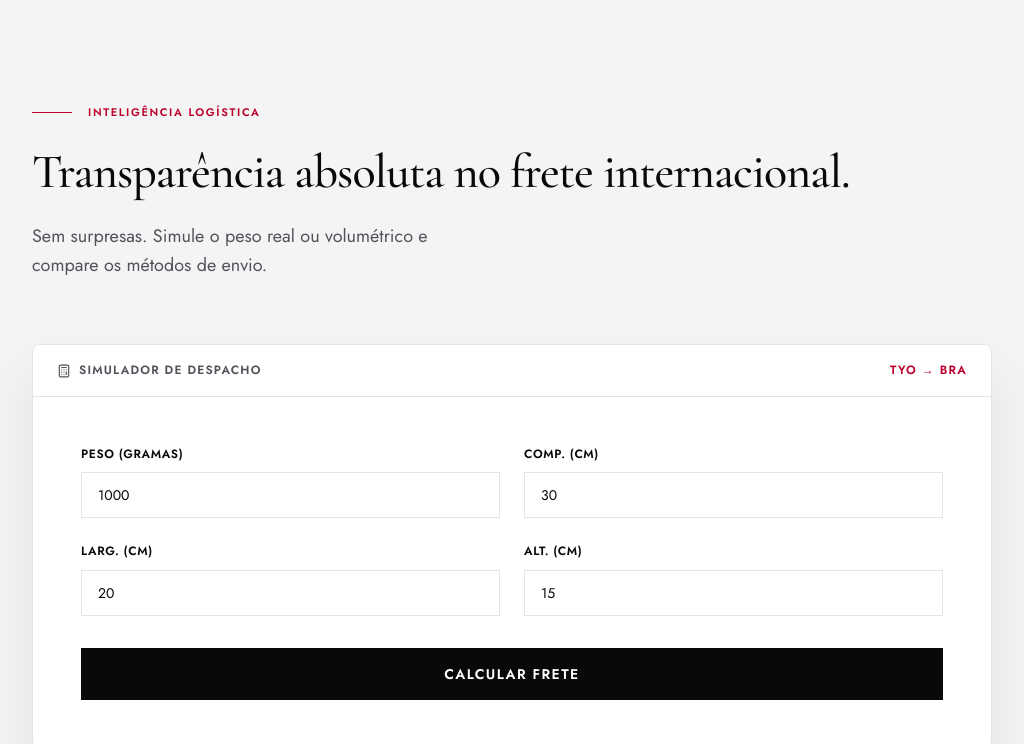
Scenario: FreightCalculator Component › mostra erro quando inputs são <= 0
Replace the text in the number field labelled "Peso (gramas)" with "500": (290, 495) top-left (81, 472), bottom-right (500, 518)
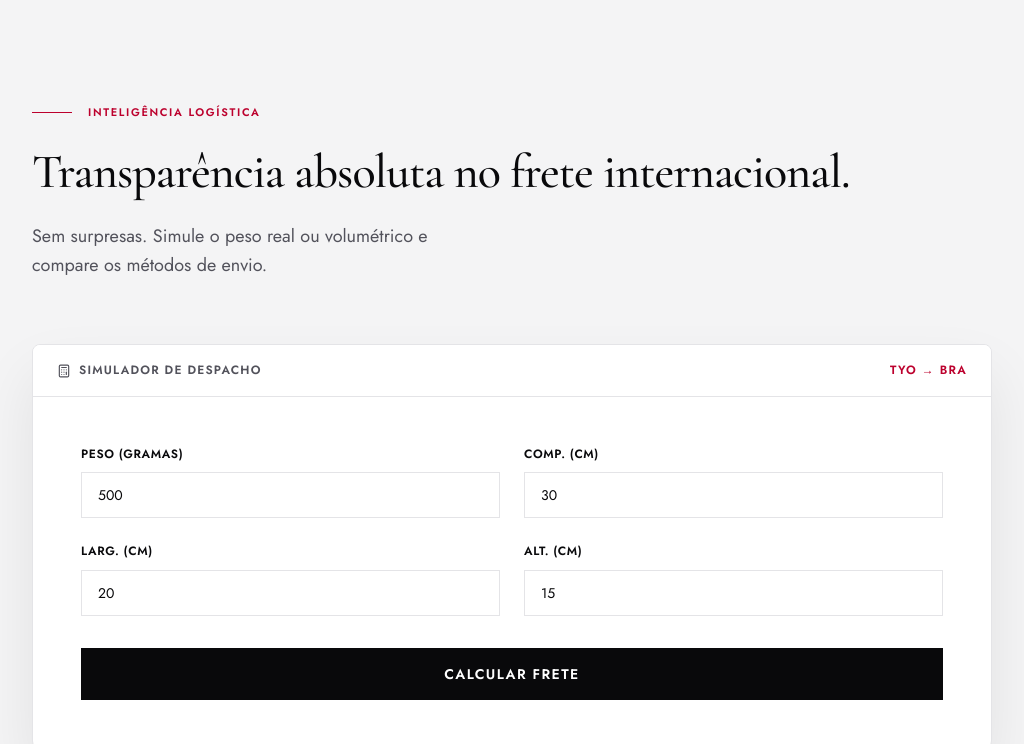
Replace the text in the number field labelled "Comp. (cm)" with "0": (734, 495) top-left (524, 472), bottom-right (943, 518)
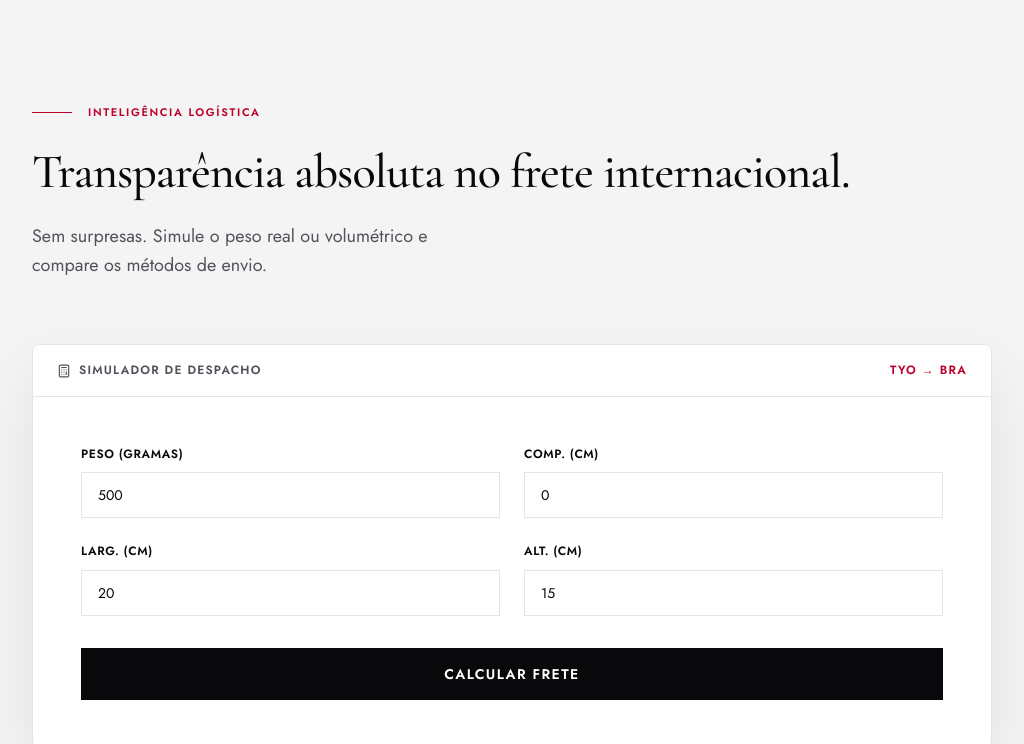
Click the button "Calcular Frete": (512, 674) top-left (81, 648), bottom-right (943, 700)
(page scrolled)
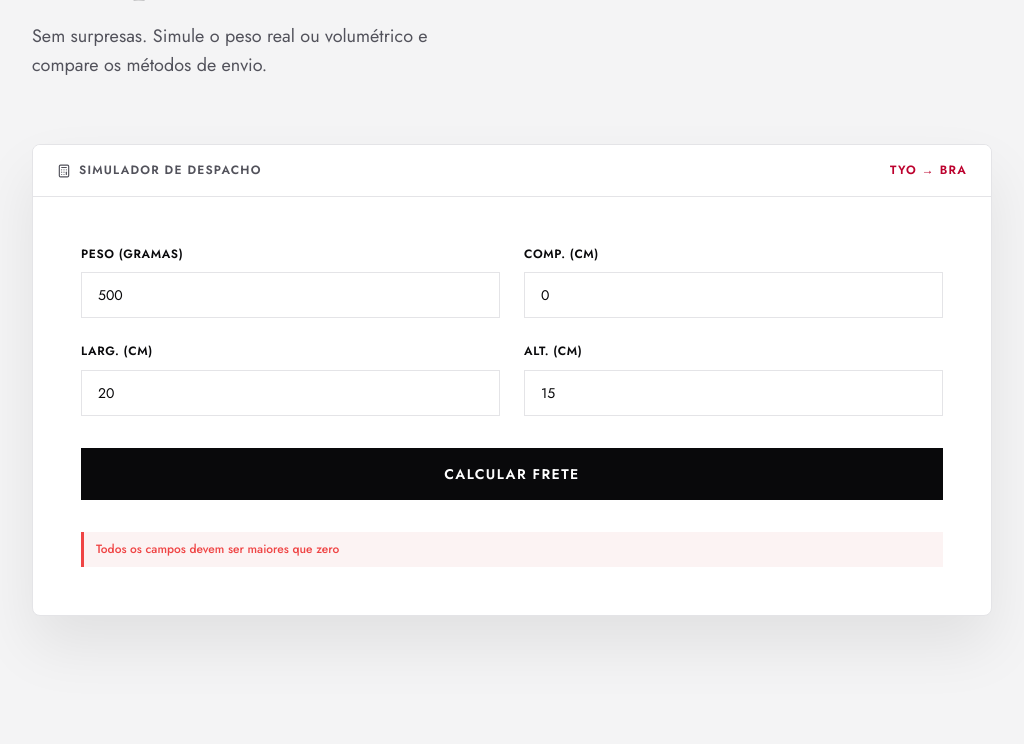
Now the text "Todos os campos devem ser maiores que zero" is shown, box top-left (81, 532), bottom-right (943, 567)
